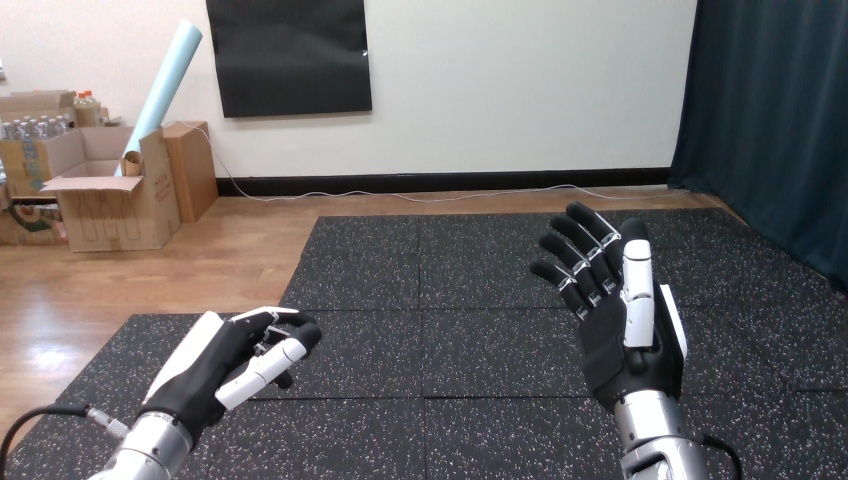left robot hand: (529, 201, 740, 479), (89, 307, 320, 479)
